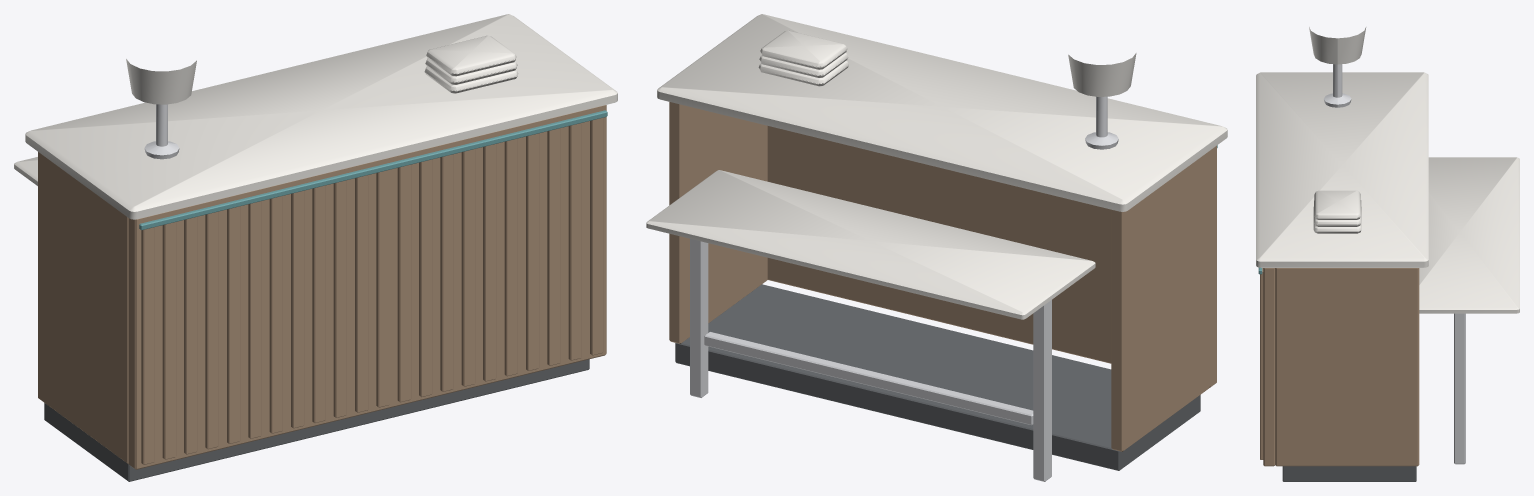
Rendered from hotel-and-resort-operations-spa-reception-desk-8e1bcf19.glb.
The picture shows the model from 3 angles, left to right: view 1: azimuth 30°, elevation 25°; view 2: azimuth 150°, elevation 25°; view 3: azimuth 270°, elevation 25°; orthographic projection. The views are drawn at different scales.
Visible parts, largest first — view 1: spa-reception-desk; view 2: spa-reception-desk; view 3: spa-reception-desk.
Boxes of the visible parts, x1,y1,x2,y2 form: spa-reception-desk: [14, 14, 617, 481]; spa-reception-desk: [646, 14, 1227, 481]; spa-reception-desk: [1256, 27, 1519, 481].
Bounding box in the file's own units: 1.86 × 1.4 × 1.1.
